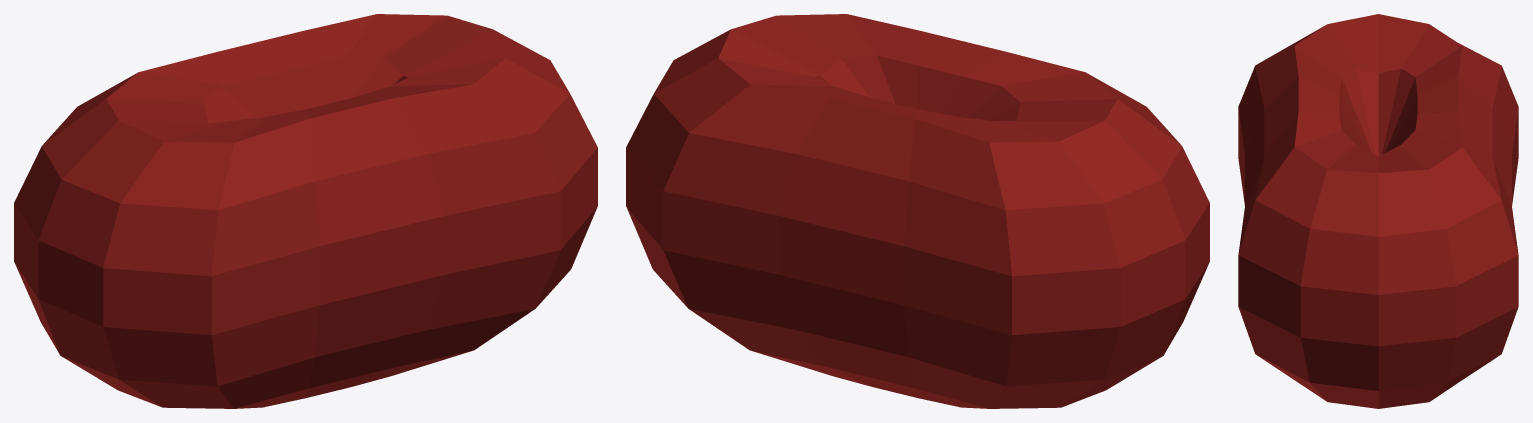
Rendered from Saka.obj.
3 views of the same model, side by side, from view 1: azimuth 30°, elevation 25°; view 2: azimuth 150°, elevation 25°; view 3: azimuth 270°, elevation 25° (orthographic). The views are drawn at different scales.
Parts seen in each view (by area): view 1: Saka; view 2: Saka; view 3: Saka.
Boxes of the visible parts, <box> form: Saka: <box>14,14,597,408</box>; Saka: <box>626,14,1209,408</box>; Saka: <box>1238,14,1518,408</box>.
Size of the model in its own units: 0.2814 by 0.1569 by 0.1462.
